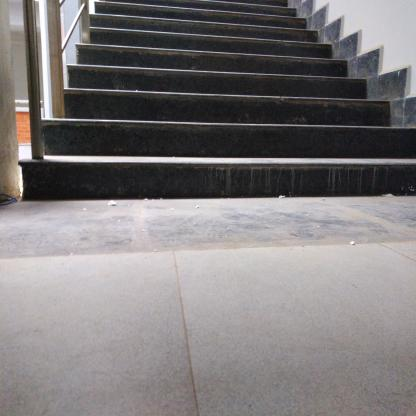stairs: (93, 10, 308, 211)
